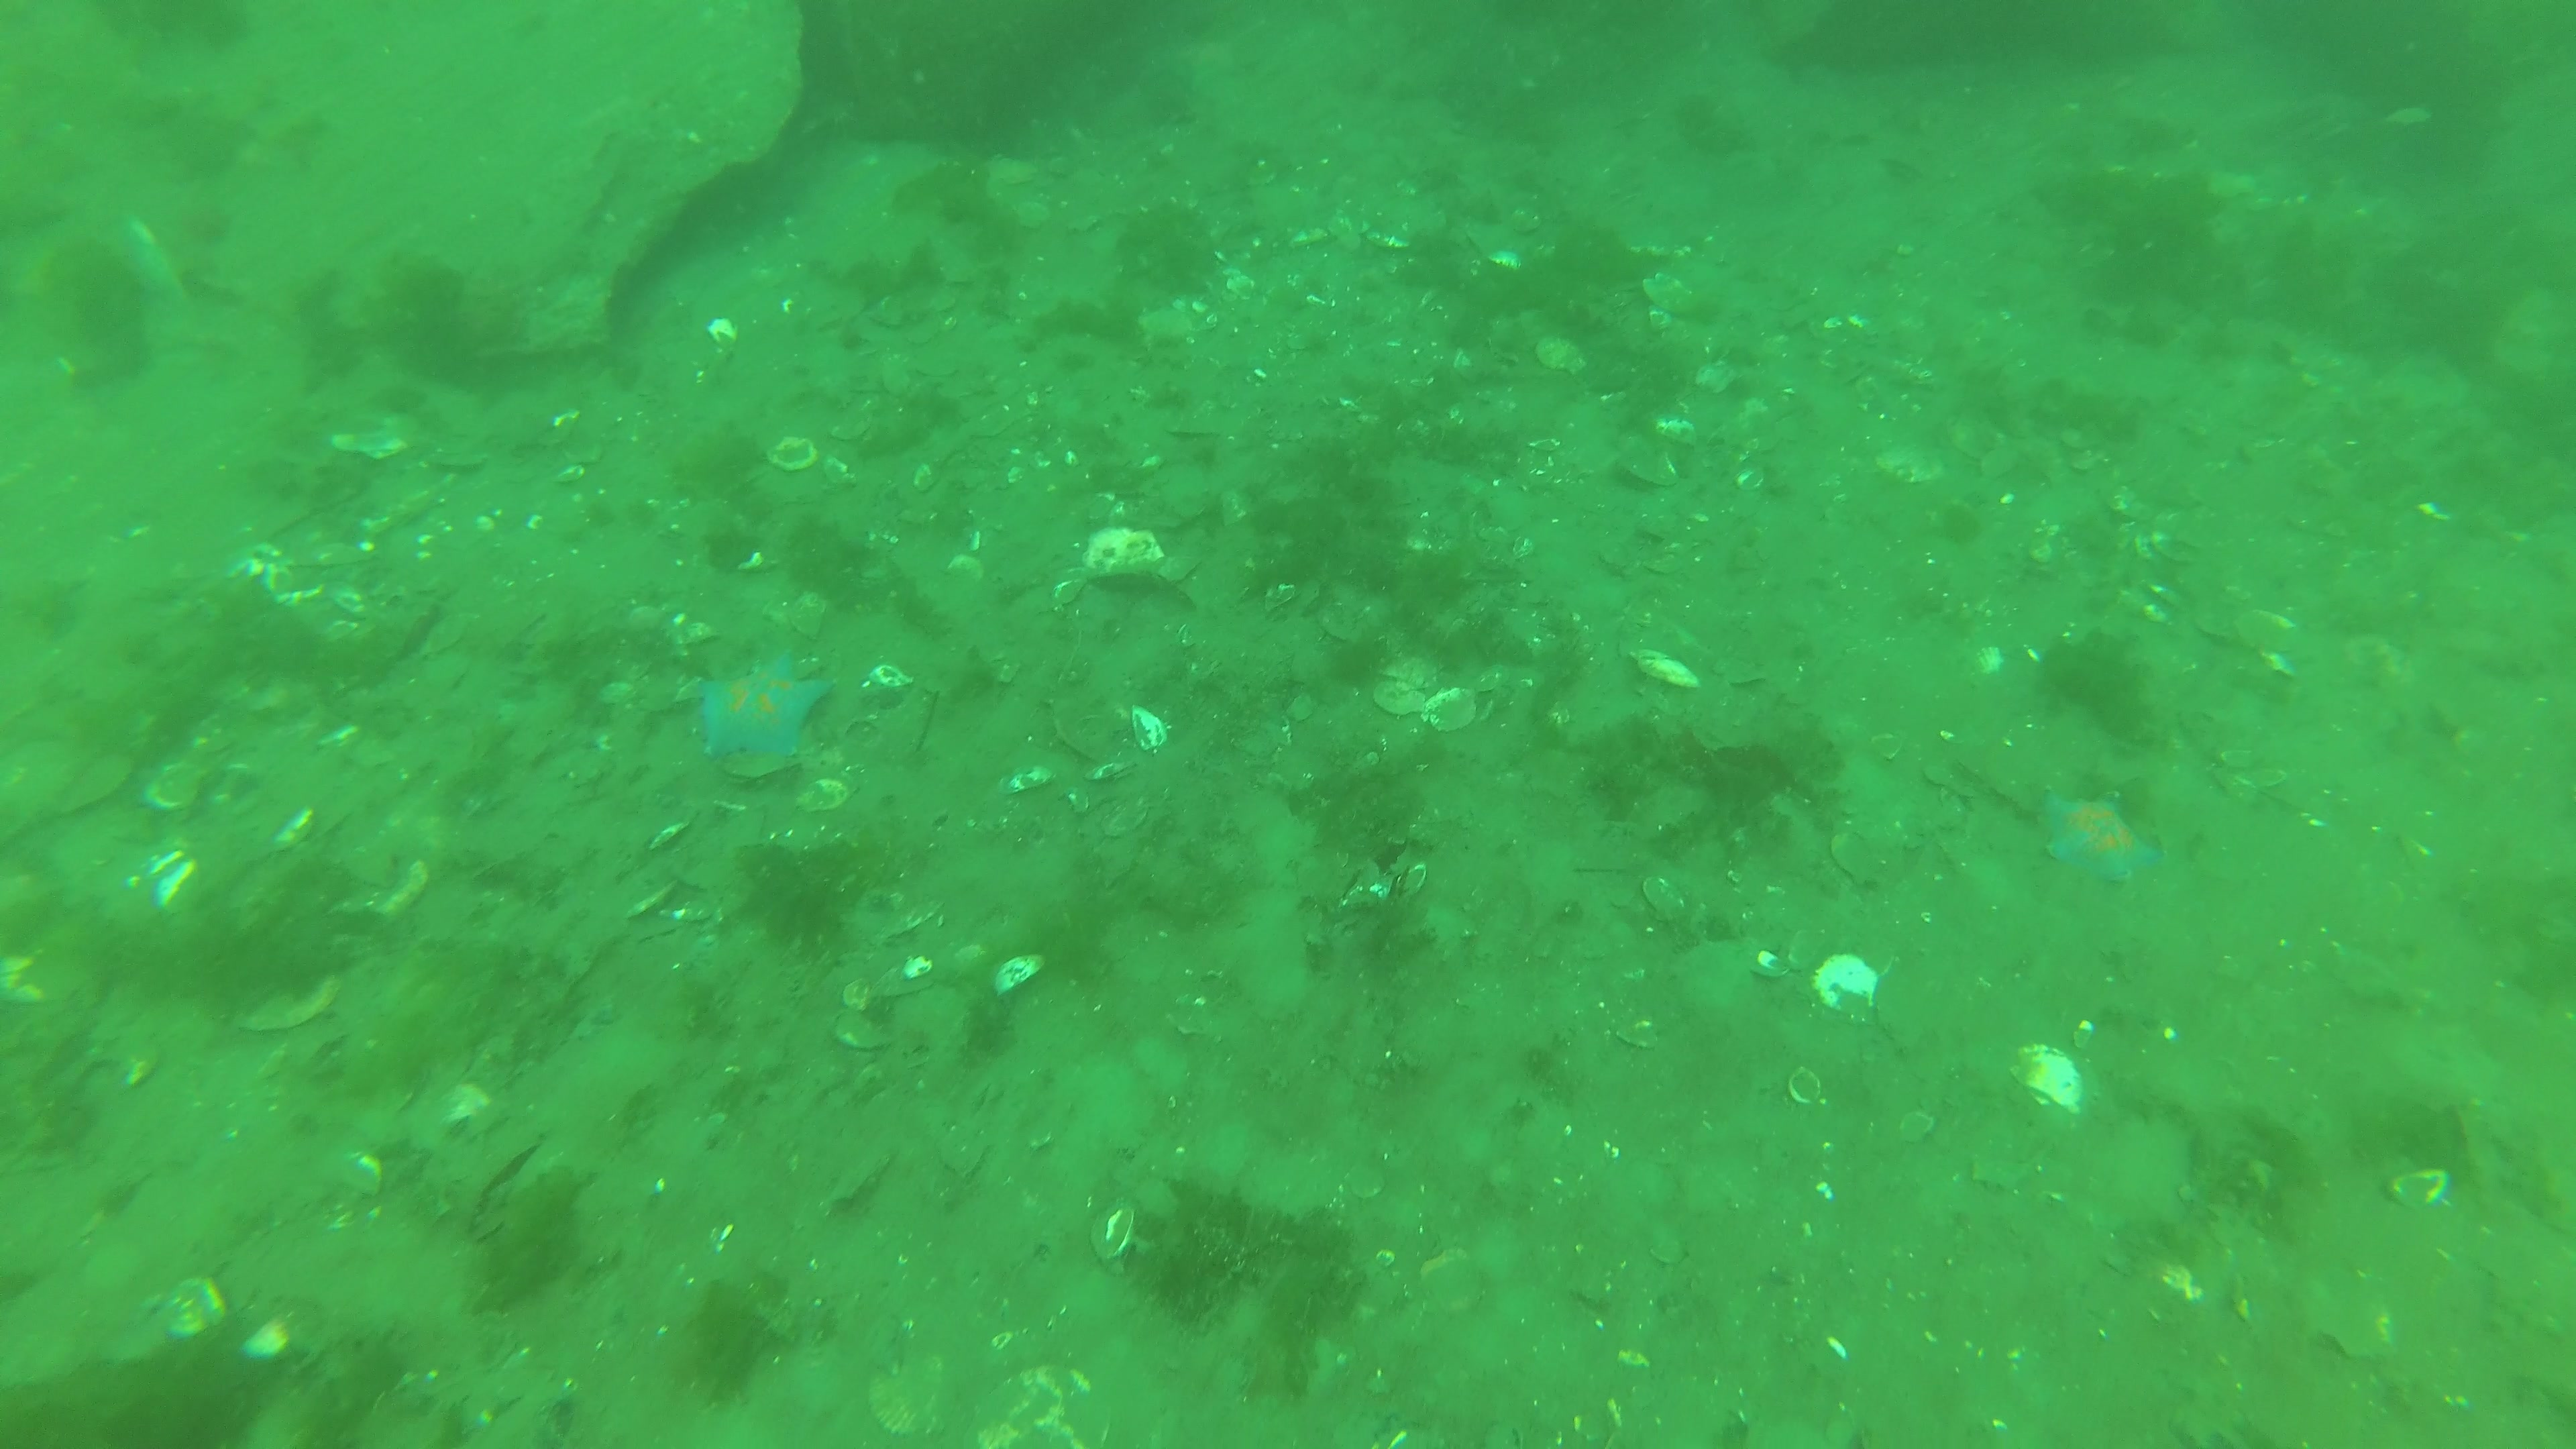scallop: (968, 1362, 1116, 1449), (856, 1341, 961, 1444)
starfish: (681, 644, 839, 773), (2036, 780, 2157, 885)
